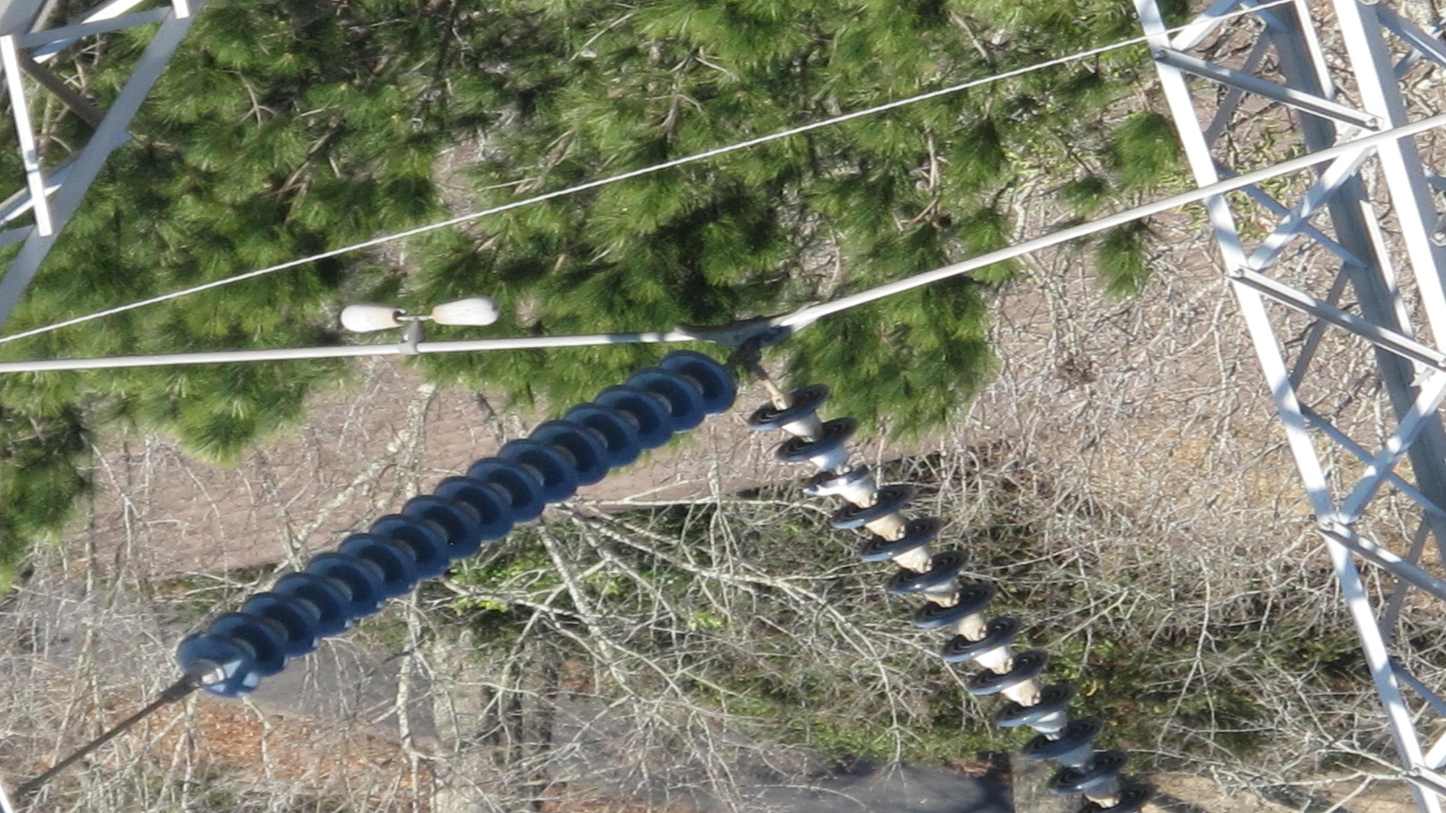insulator: (171, 346, 742, 703), (741, 378, 1153, 813)
insulator_breakage: (801, 472, 866, 499)
